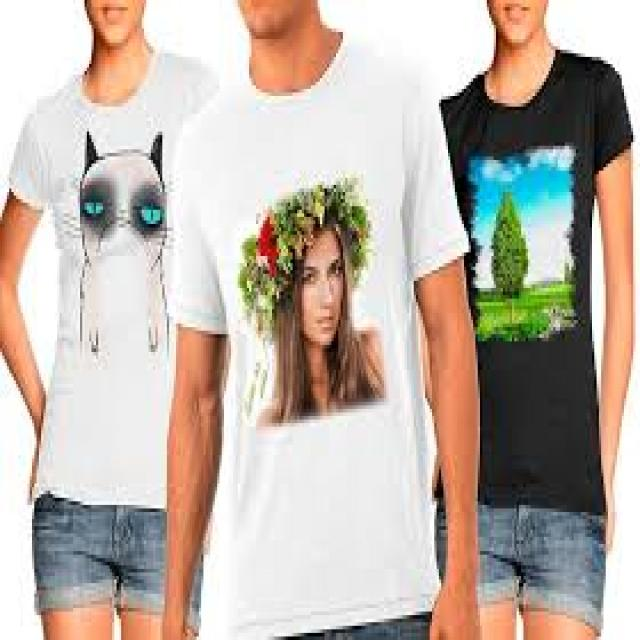Shirt: (159, 46, 474, 630), (415, 38, 638, 529), (10, 59, 222, 524)
